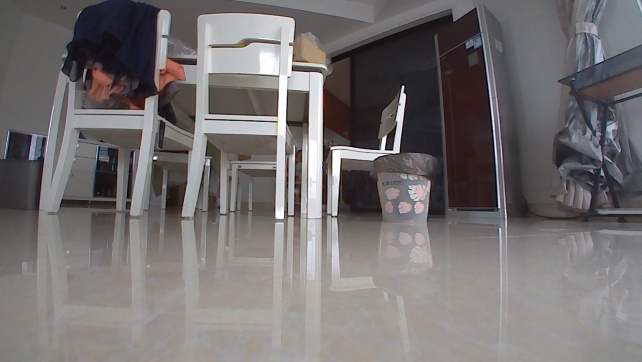dining_table: (35, 0, 412, 222)
wire: (520, 195, 585, 222)
